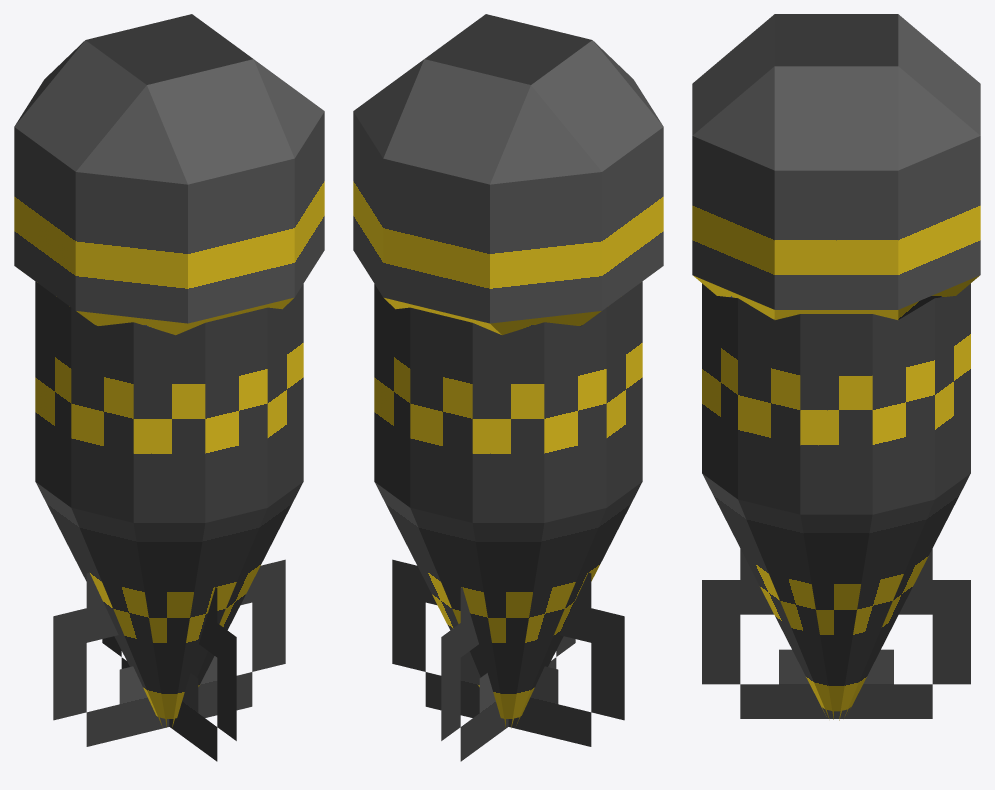
Rendered from torpedo.fbx.
3 views of the same model, side by side, from view 1: azimuth 30°, elevation 25°; view 2: azimuth 150°, elevation 25°; view 3: azimuth 270°, elevation 25° (orthographic).
Parts seen in each view (by area): view 1: beveled_cuboid, cylinder, cone, plane_1, plane; view 2: beveled_cuboid, cylinder, cone, plane_1, plane; view 3: beveled_cuboid, cylinder, cone, plane.
Boxes of the visible parts, x1=… form: beveled_cuboid: x1=14, y1=14, x2=324, y2=335; cylinder: x1=35, y1=281, x2=303, y2=522; cone: x1=35, y1=482, x2=303, y2=728; plane_1: x1=53, y1=559, x2=285, y2=746; plane: x1=102, y1=587, x2=236, y2=761; beveled_cuboid: x1=353, y1=14, x2=663, y2=335; cylinder: x1=374, y1=281, x2=642, y2=522; cone: x1=374, y1=482, x2=642, y2=728; plane_1: x1=392, y1=559, x2=624, y2=746; plane: x1=441, y1=587, x2=575, y2=761; beveled_cuboid: x1=692, y1=14, x2=980, y2=319; cylinder: x1=702, y1=283, x2=970, y2=514; cone: x1=702, y1=473, x2=970, y2=720; plane: x1=702, y1=549, x2=970, y2=718.
Size of the model in its own units: 46.88 by 125 by 46.88.
Materials: 2 (2 with a texture image).
